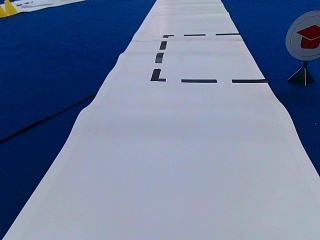school: (286, 10, 319, 59)
